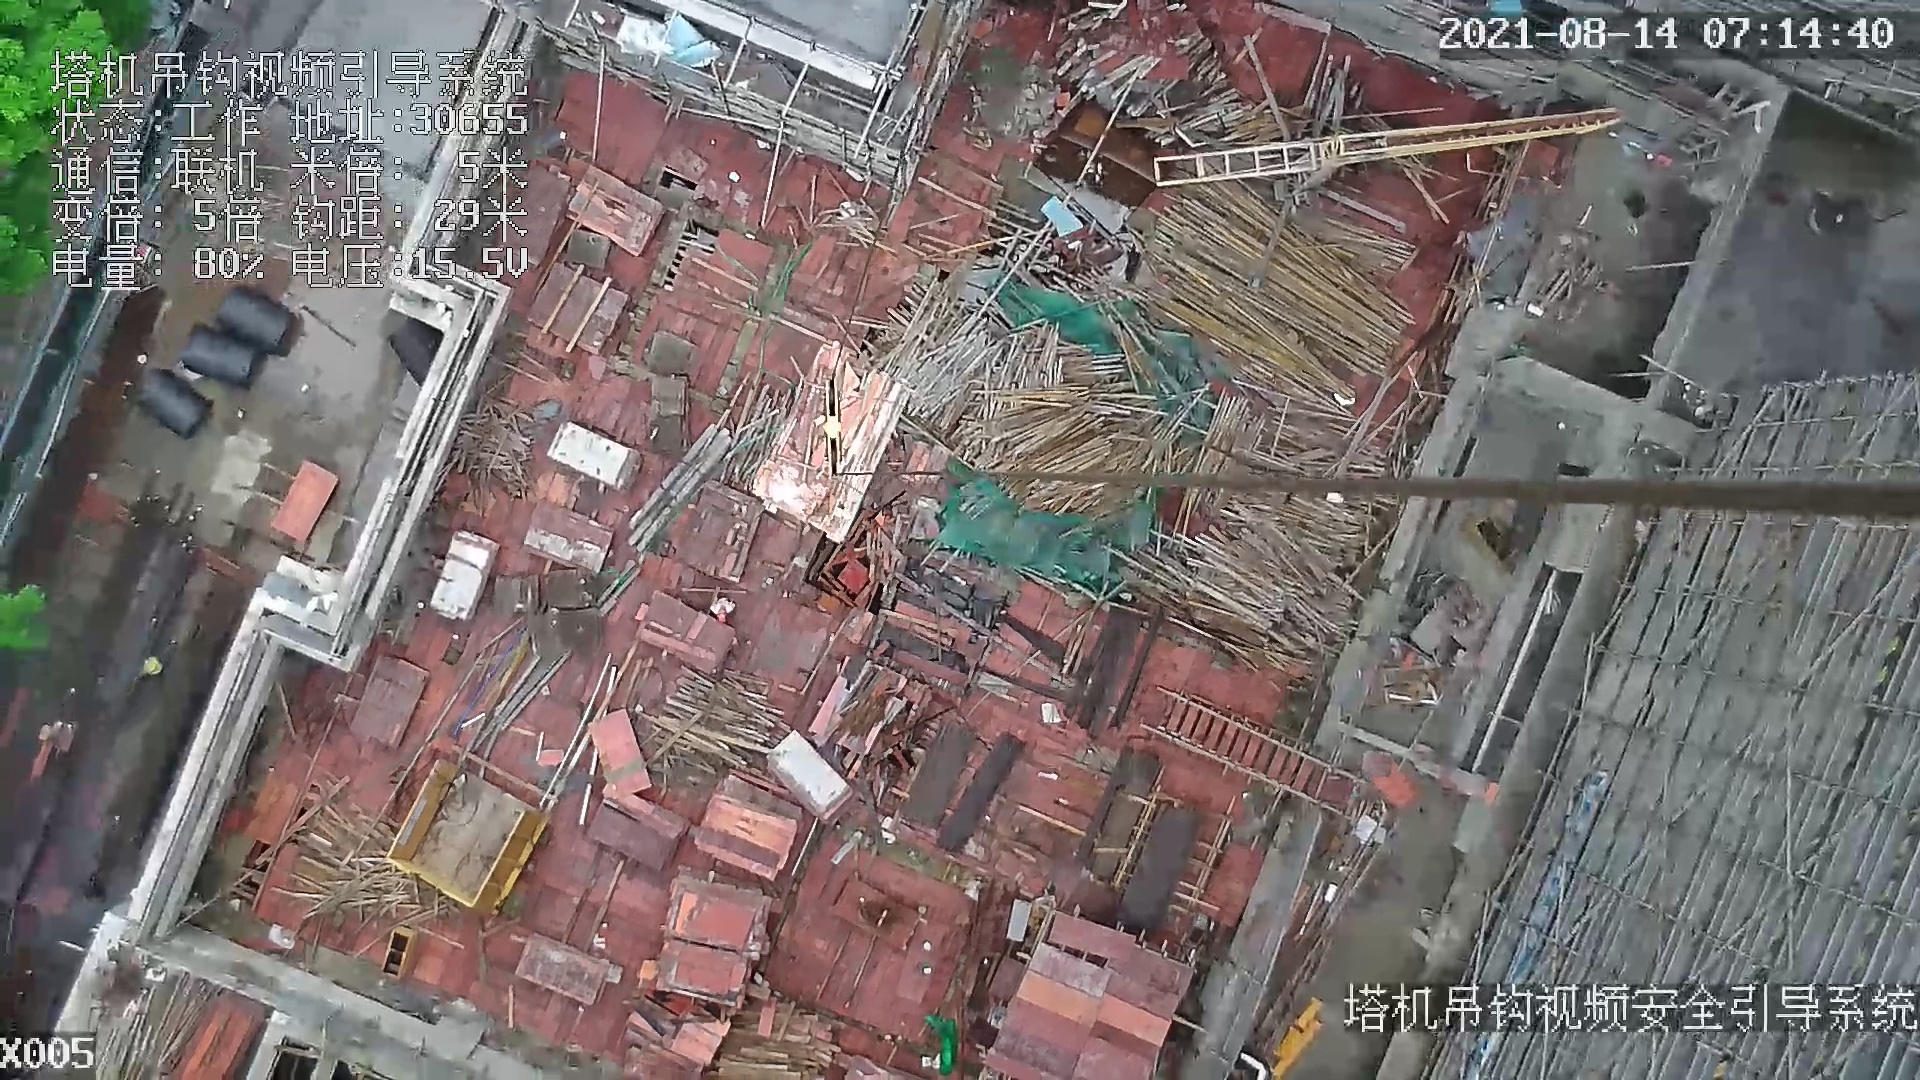hook: (814, 371, 856, 491)
